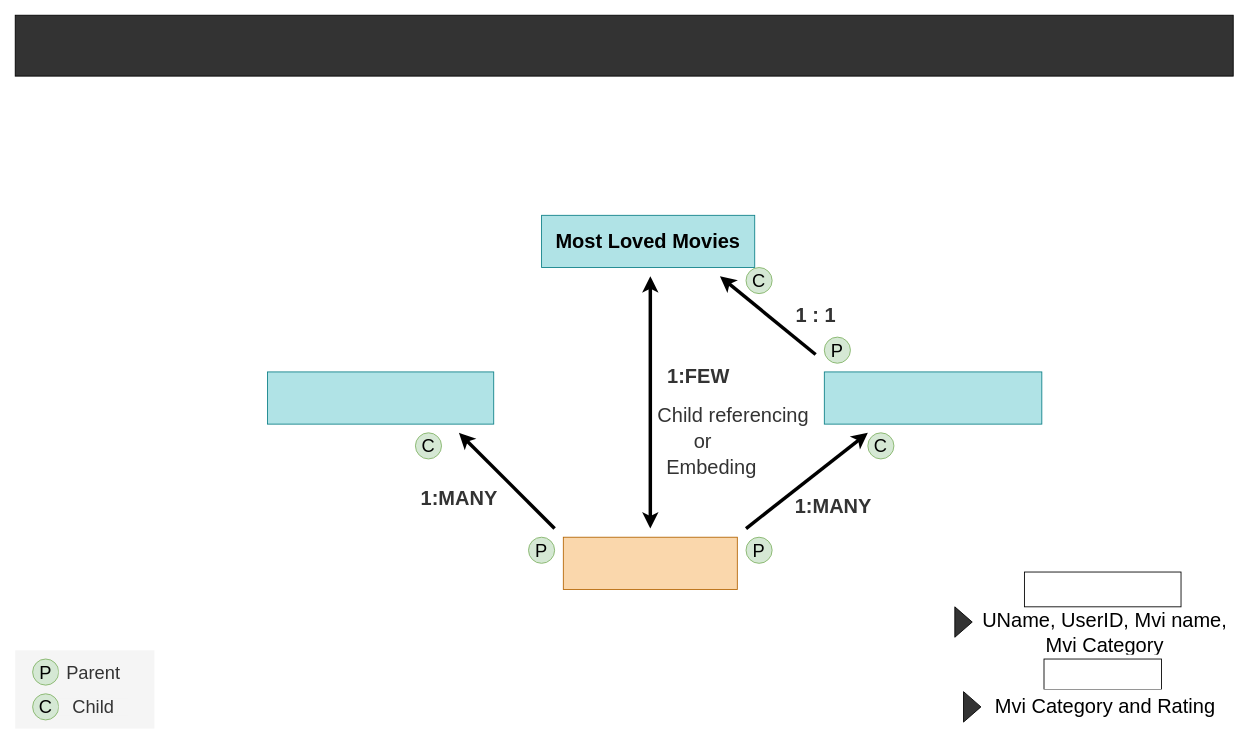
Image size: 1248x744. Some labels were removed from this diagram. The centre of each missing label's shape, as x and y in pixels:
Favorite movies: the point at 932,397
Filter by: the point at 1102,673
Global Search by: the point at 1102,589
Next watching movies: the point at 380,397
THE ZINZAR APP DATA MODEL: the point at 623,45
Users: the point at 649,562
